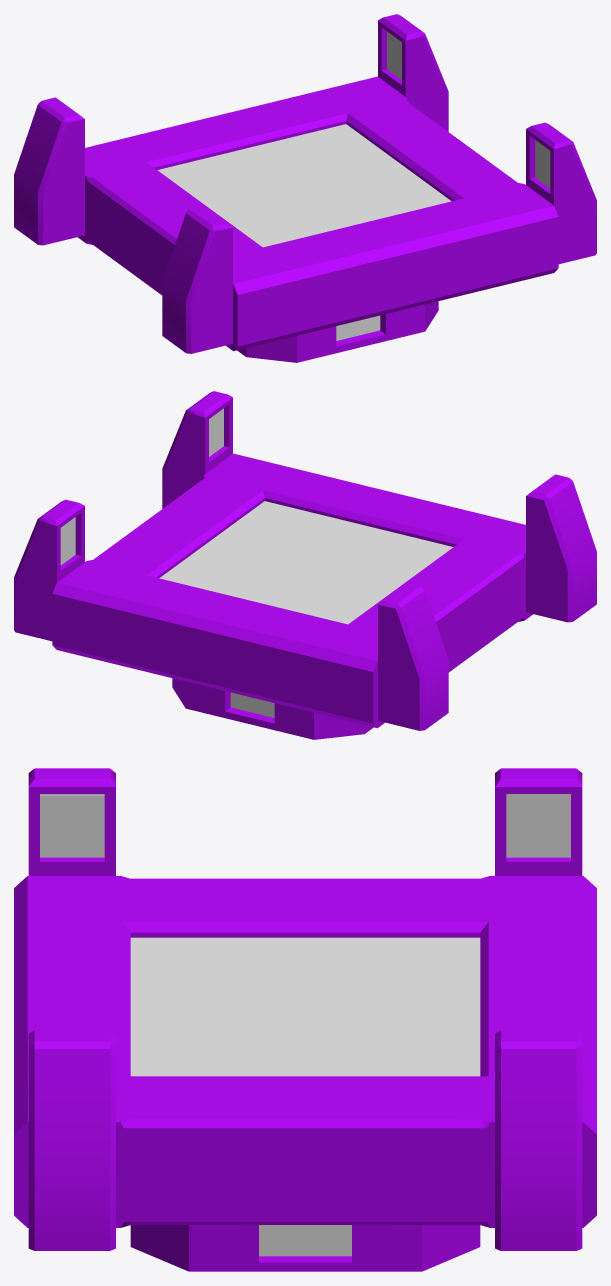
File: MovingPlatformModel.fbx
The picture shows the model from 3 angles, top to bottom: view 1: azimuth 30°, elevation 25°; view 2: azimuth 150°, elevation 25°; view 3: azimuth 270°, elevation 25°; orthographic projection. The views are drawn at different scales.
Parts seen in each view (by area): view 1: mainBody, glow, glow2, glow3; view 2: mainBody, glow, glow2, glow3; view 3: mainBody, glow, glow2, glow3.
Part boxes in pixels (x1,y1,x2,y2): mainBody: (14, 14, 596, 362); glow: (157, 124, 451, 247); glow2: (387, 31, 550, 188); glow3: (336, 315, 380, 340); mainBody: (14, 391, 596, 739); glow: (159, 501, 453, 624); glow2: (60, 408, 223, 565); glow3: (230, 692, 274, 717); mainBody: (14, 768, 596, 1271); glow: (130, 937, 480, 1076); glow2: (40, 794, 570, 857); glow3: (259, 1225, 351, 1256).
Size of the model in its own units: 640 by 277 by 500.
